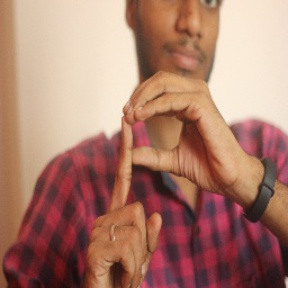P: (85, 68, 233, 279)
